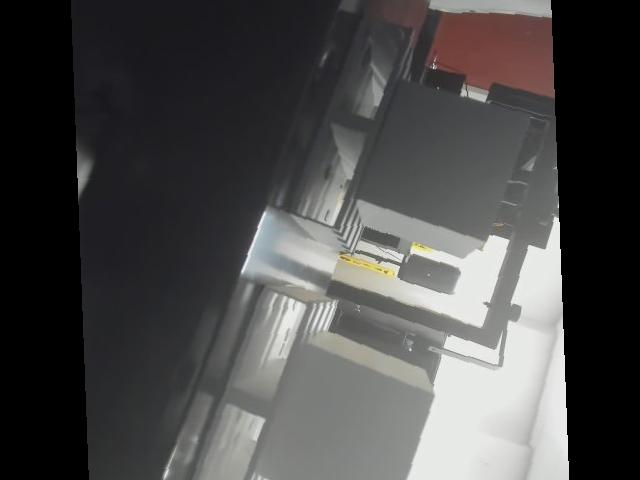grey pallet: (276, 8, 547, 307)
